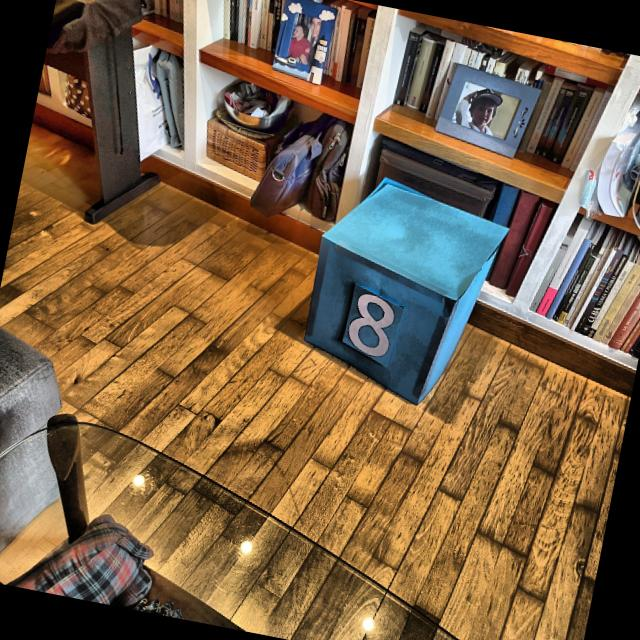blue box: (290, 165, 514, 412)
eight: (338, 281, 410, 365)
